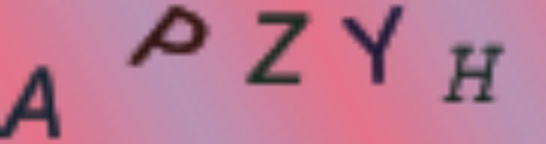A: (1, 61, 66, 138)
H: (439, 39, 513, 108)
P: (127, 3, 213, 69)
Y: (339, 2, 410, 89)
Z: (237, 7, 321, 88)
